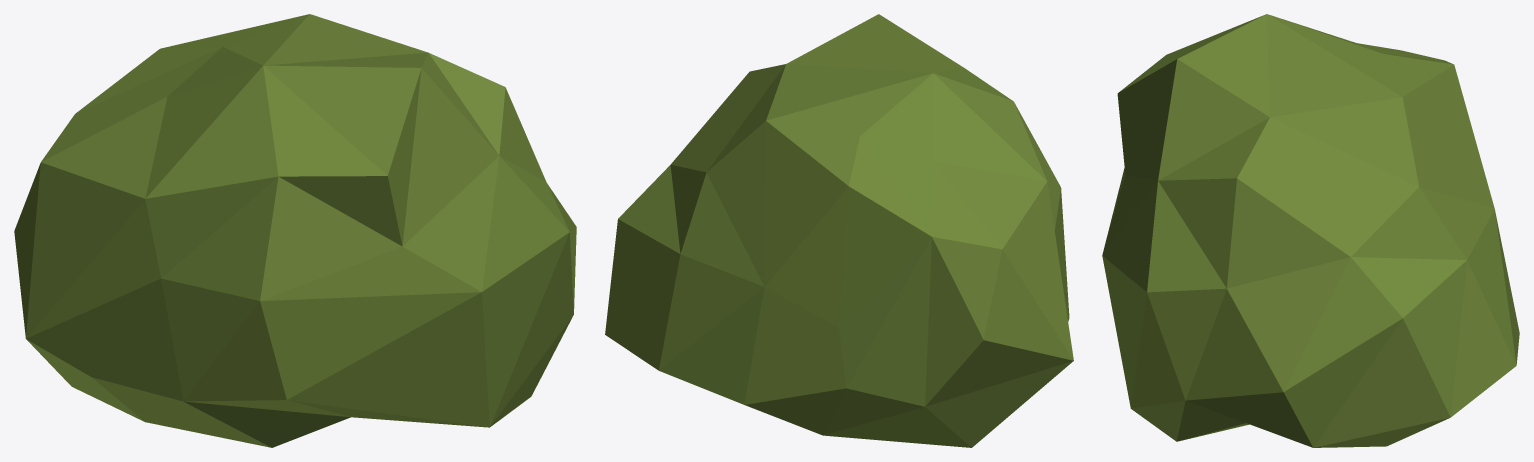
The model's file is Bush_2.fbx.
3 renders of one model, left to right at view 1: azimuth 30°, elevation 25°; view 2: azimuth 150°, elevation 25°; view 3: azimuth 270°, elevation 25°, orthographic. The views are drawn at different scales.
Parts seen in each view (by area): view 1: Bush_2; view 2: Bush_2; view 3: Bush_2.
Boxes of the visible parts, <box> form: Bush_2: <box>14,14,576,447</box>; Bush_2: <box>605,14,1073,447</box>; Bush_2: <box>1102,14,1519,447</box>.
Size of the model in its own units: 160 by 104 by 118.
